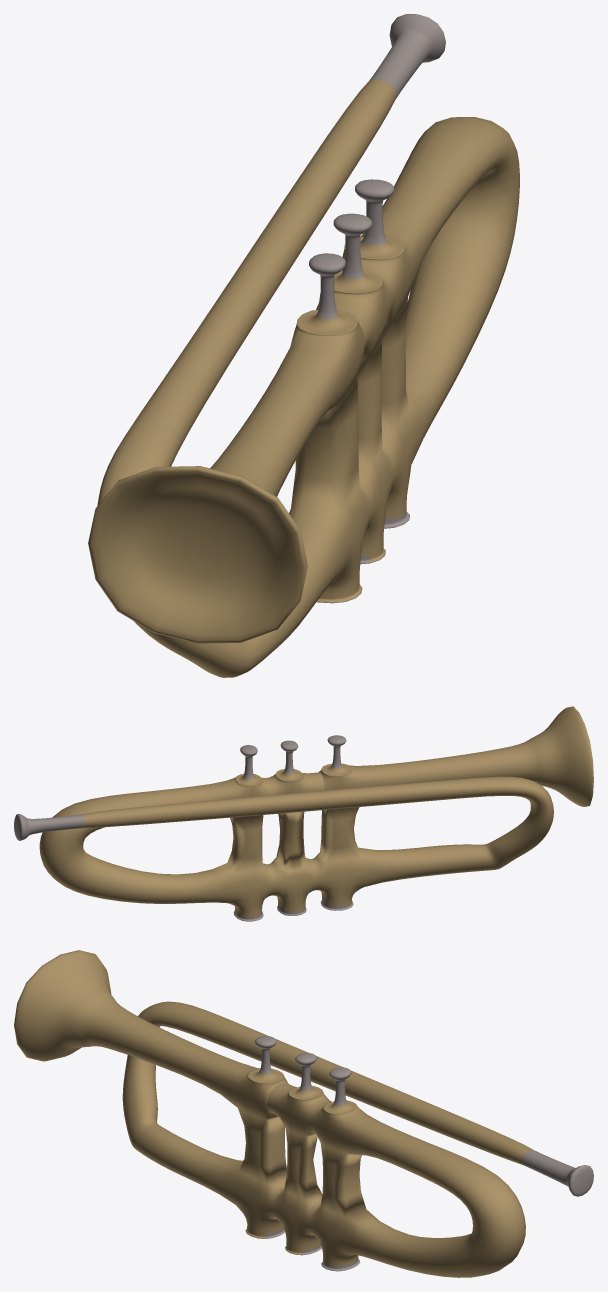
The model's file is trumpet.fbx.
3 renders of one model, top to bottom at view 1: azimuth 30°, elevation 25°; view 2: azimuth 150°, elevation 25°; view 3: azimuth 270°, elevation 25°, orthographic. The views are drawn at different scales.
Visible parts, largest first — view 1: Cube.002; view 2: Cube.002; view 3: Cube.002.
Part boxes in pixels (left/top/right/bottom): Cube.002: left=88, top=14, right=519, bottom=677; Cube.002: left=14, top=706, right=593, bottom=921; Cube.002: left=14, top=950, right=593, bottom=1277.
Size of the model in its own units: 504 by 211 by 571.
